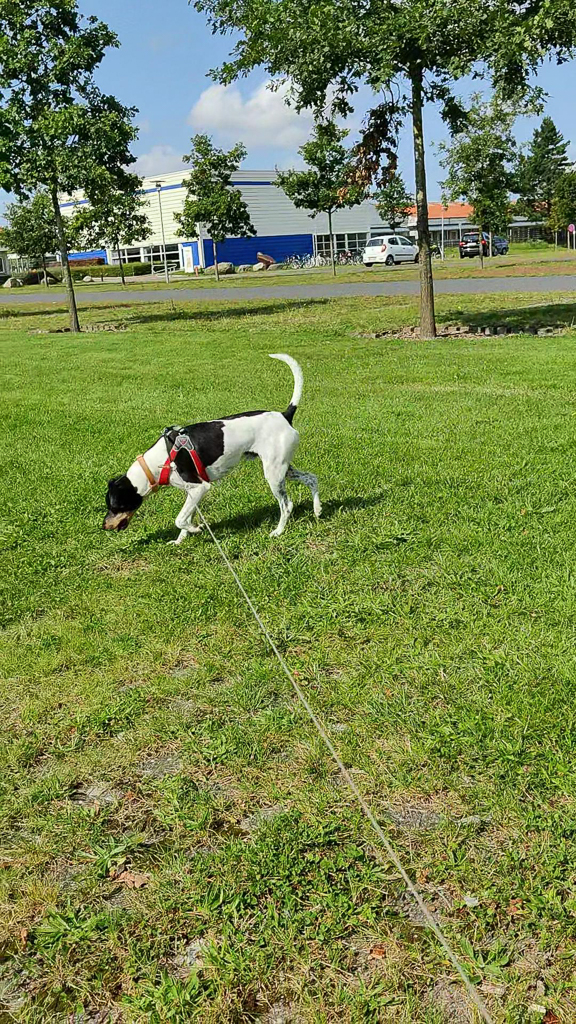Dog: (91, 350, 333, 553)
